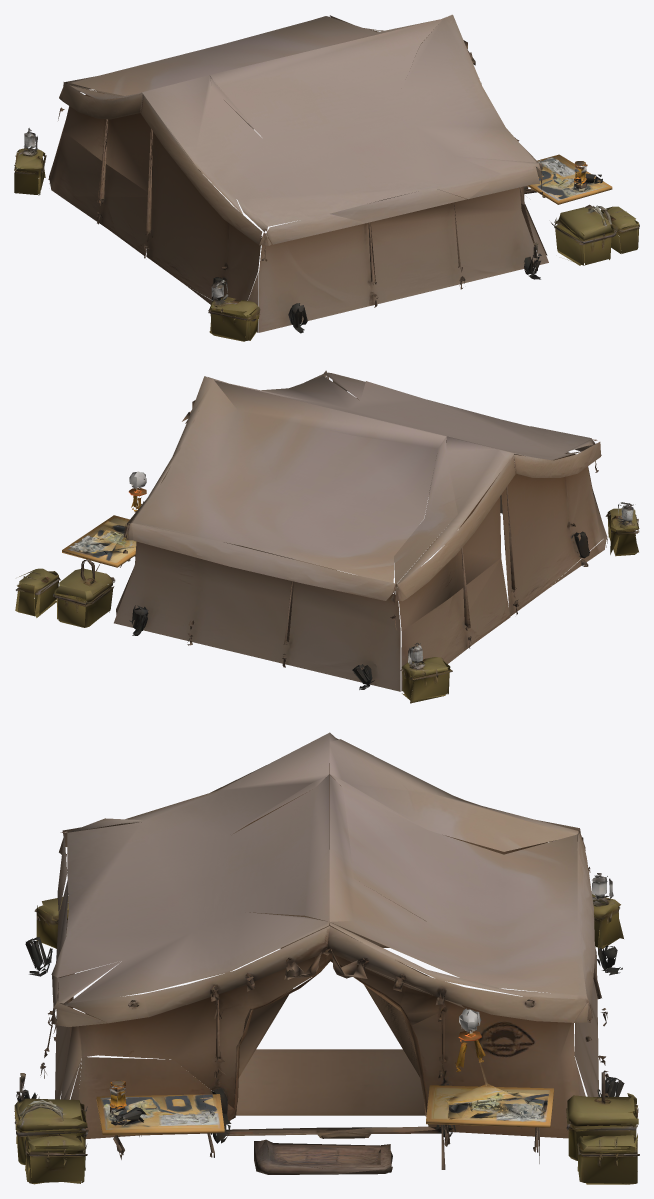
Rendered from ch1_expedition_command_tent_LOD2.glb.
The picture shows the model from 3 angles, top to bottom: view 1: azimuth 30°, elevation 25°; view 2: azimuth 150°, elevation 25°; view 3: azimuth 270°, elevation 25°; orthographic projection. The views are drawn at different scales.
Visible parts, largest first — view 1: tripo_node_c0922387-0ff8-4f86-8ded-e790a2d85951; view 2: tripo_node_c0922387-0ff8-4f86-8ded-e790a2d85951; view 3: tripo_node_c0922387-0ff8-4f86-8ded-e790a2d85951.
Part boxes in pixels (bbox=[...]): tripo_node_c0922387-0ff8-4f86-8ded-e790a2d85951: bbox=[14, 14, 639, 341]; tripo_node_c0922387-0ff8-4f86-8ded-e790a2d85951: bbox=[15, 370, 639, 703]; tripo_node_c0922387-0ff8-4f86-8ded-e790a2d85951: bbox=[14, 732, 639, 1184].
Bounding box in the file's own units: 0.9959 × 0.3878 × 1.
1 material, 1 textured.
